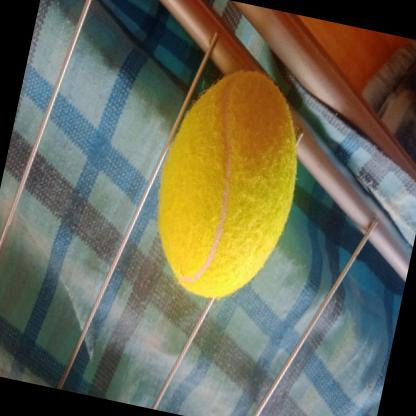Tennis: (134, 51, 320, 316)
